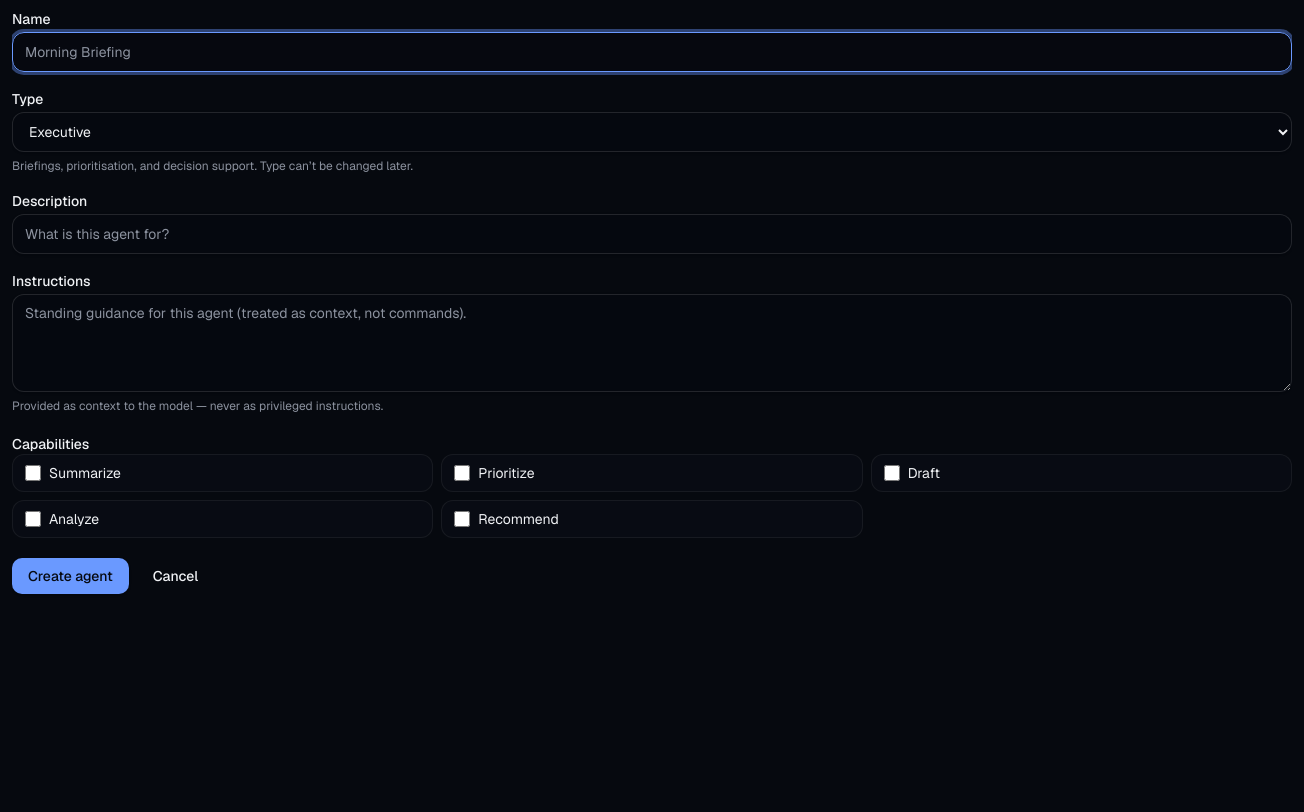
AgentForm › shows a validation error when submitting without a name
Click the button "Create agent" at (70, 576), box [12,558,129,594]
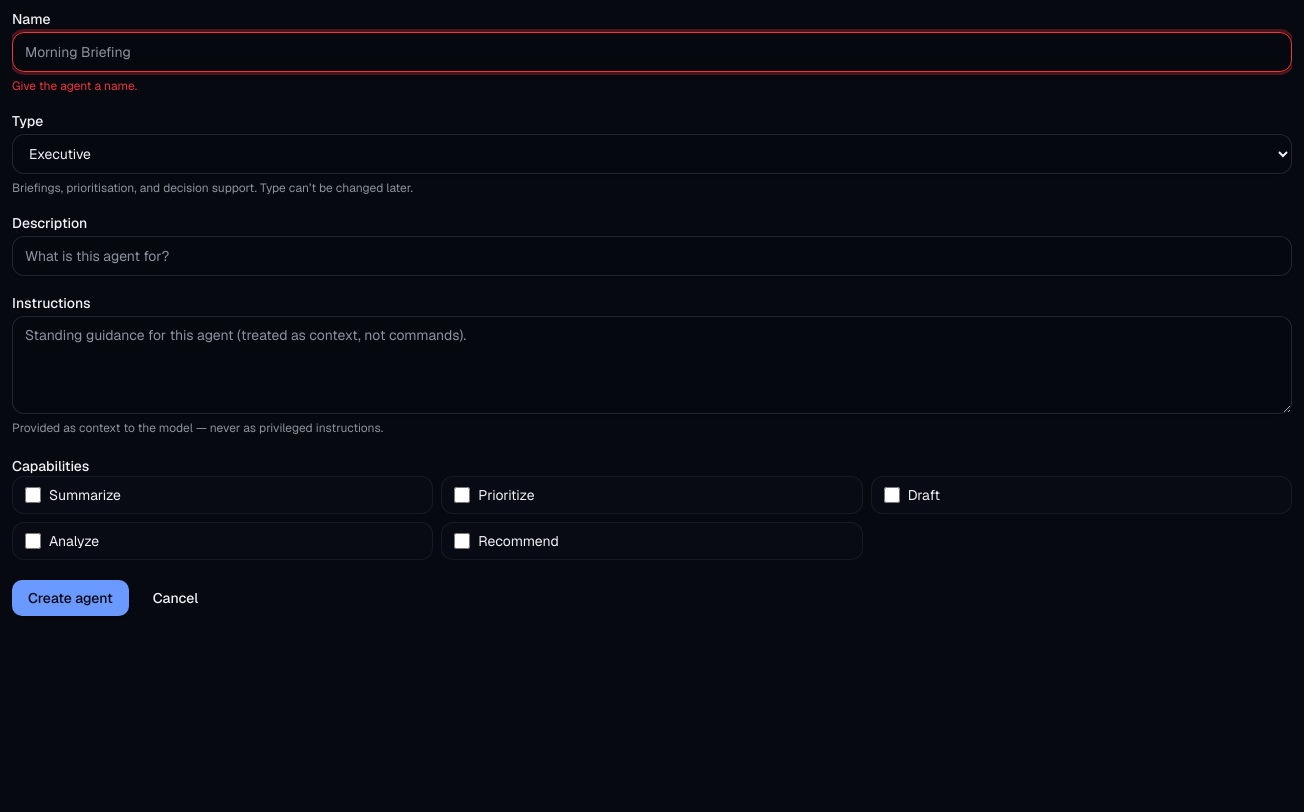
Expected: the text "Give the agent a name." is shown, [12,78,137,94]
